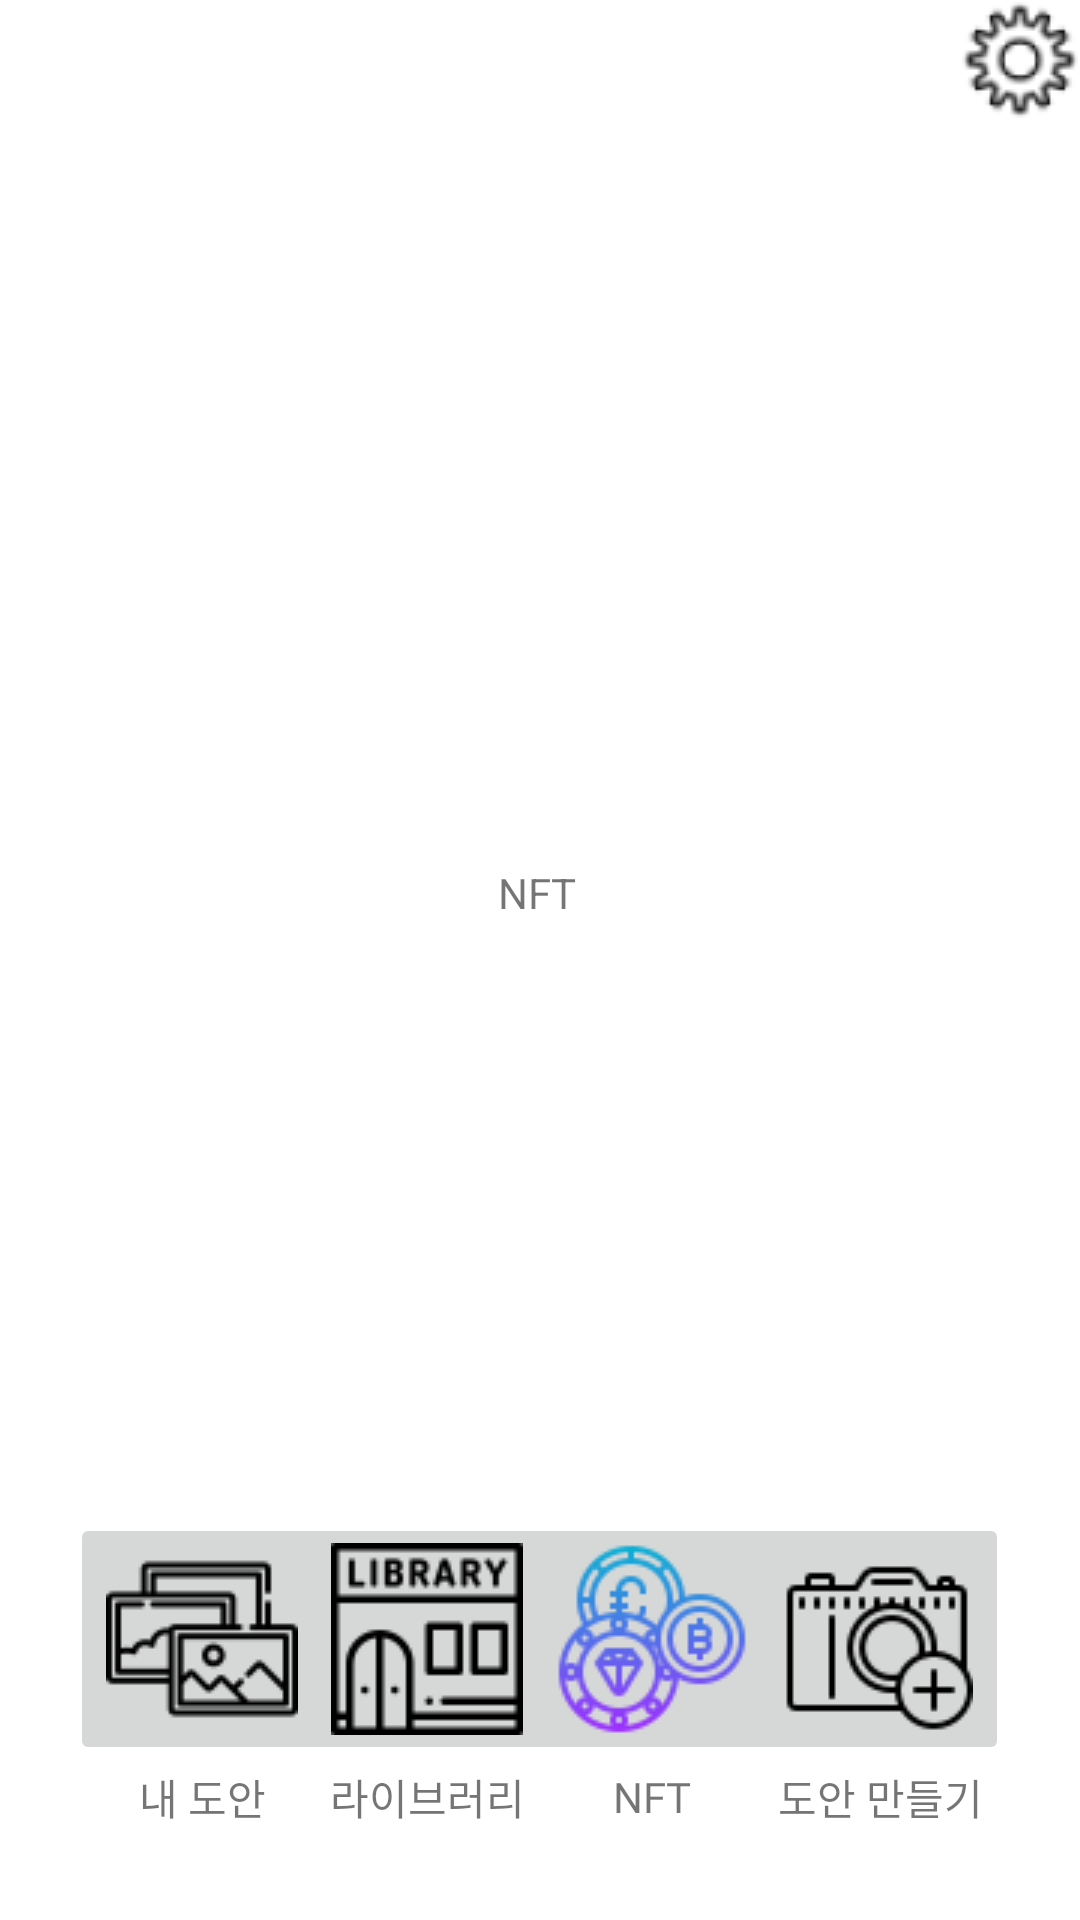

Where to tap for icons on this 1080*1920 app screen, as [x,y]:
camera unchecked: [871,1639]
setting: [1020,59]
